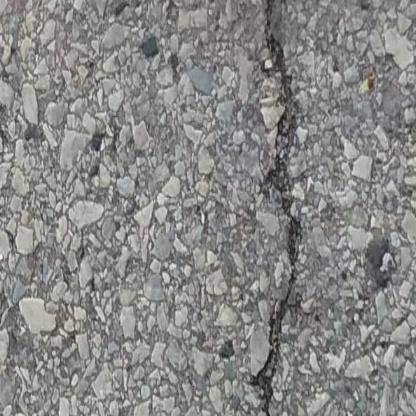Cracks: (251, 0, 304, 416)
